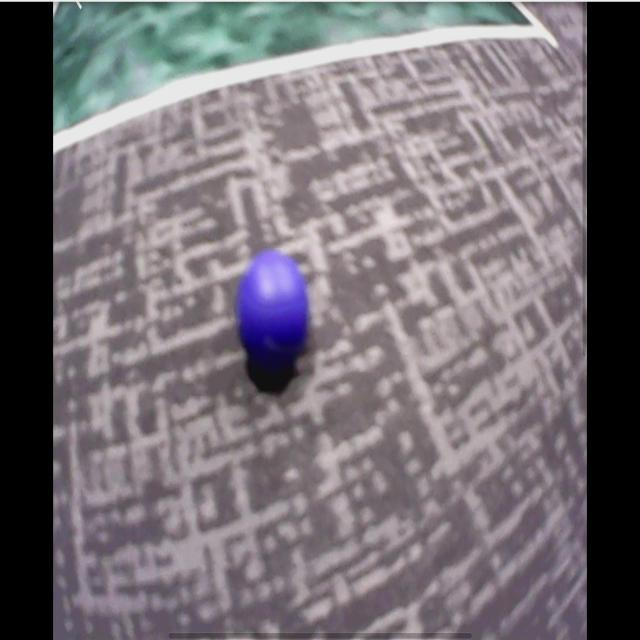ball: (240, 251, 309, 362)
